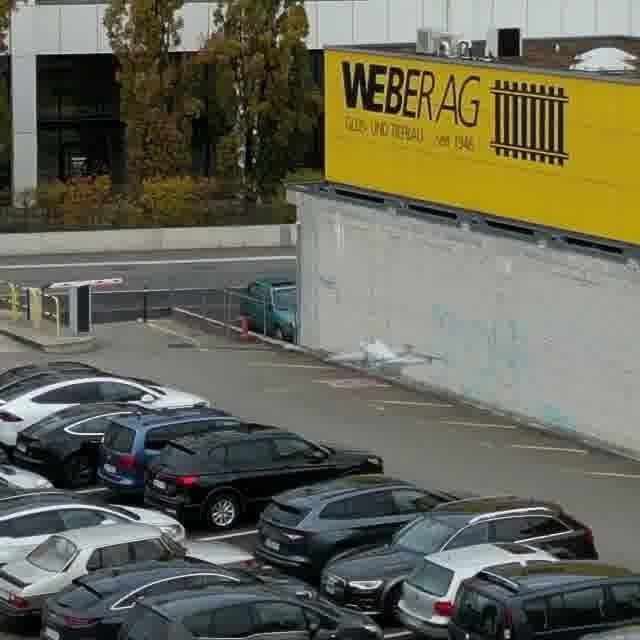Drohne: (330, 339, 439, 369)
